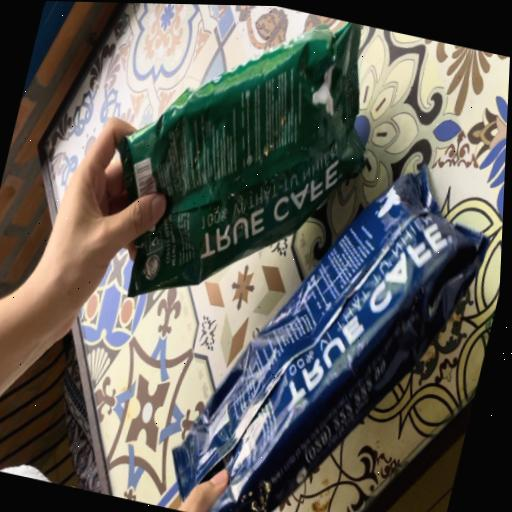cafe_hat: (173, 168, 488, 512)
cafe_xay: (119, 21, 365, 295)
